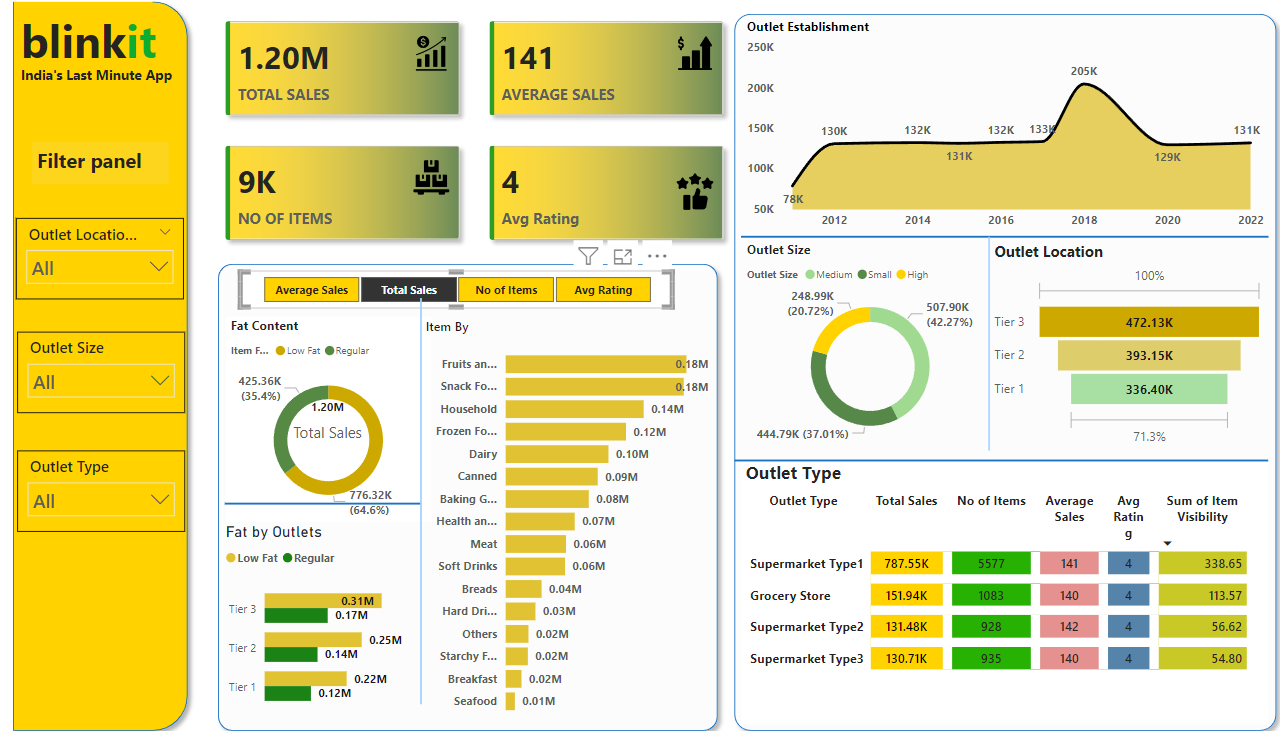

Layout of this report page (visuals, bound fields, positions):
{"tool":"powerbi","page":{"name":"Page 1","canvas":[1400,800],"ordinal":0},"visuals":[{"type":"shape","box":[9.4,0,205.1,800.3],"z":0},{"type":"textbox","box":[21.4,13.4,164.9,77.7],"z":1000},{"type":"textbox","box":[21.4,72.4,191.7,37.5],"z":2000},{"type":"cardVisual","fields":{"Data":["BlinkIT Grocery Data.Total Sales","BlinkIT Grocery Data.Average Sales","BlinkIT Grocery Data.No of Items","BlinkIT Grocery Data.Avg Rating"]},"box":[229.2,13.4,569.7,269.4],"z":3000},{"type":"shape","box":[229.2,281.5,553.6,518.8],"z":4000},{"type":"donutChart","title":"Fat Content","fields":{"Y":["BlinkIT Grocery Data.Total Sales"],"Category":["BlinkIT Grocery Data.Item Fat Content"]},"box":[246.7,347.2,219.8,219.8],"z":5000},{"type":"slicer","fields":{"Values":["Metrics.Metrics"]},"box":[261.4,297.6,465.1,40.2],"z":6000},{"type":"cardVisual","fields":{"Data":["BlinkIT Grocery Data.Total Sales","BlinkIT Grocery Data.Total Sales"]},"box":[297.6,415.6,116.6,85.8],"z":7000},{"type":"clusteredBarChart","title":"Fat by Outlets","fields":{"Y":["BlinkIT Grocery Data.Total Sales"],"Category":["BlinkIT Grocery Data.Outlet Location Type"],"Series":["BlinkIT Grocery Data.Item Fat Content"]},"box":[241.3,567,219.8,215.8],"z":8000},{"type":"shape","box":[245.3,524.1,210.5,46.9],"z":9000},{"type":"shape","box":[435.7,327.1,40.2,435.7],"z":10000},{"type":"barChart","title":"Item By","fields":{"Y":["BlinkIT Grocery Data.Total Sales"],"Category":["BlinkIT Grocery Data.Item Type"]},"box":[455.8,348.5,313.7,435.7],"z":11000},{"type":"shape","box":[782.8,13.4,599.2,786.9],"z":12000},{"type":"lineChart","title":"Outlet Establishment","fields":{"Category":["BlinkIT Grocery Data.Outlet Establishment Year"],"Y":["BlinkIT Grocery Data.Total Sales"]},"box":[800.3,26.8,564.3,234.6],"z":13000},{"type":"shape","box":[798.9,241.3,565.7,40.2],"z":14000},{"type":"donutChart","title":"Outlet Size","fields":{"Y":["BlinkIT Grocery Data.Total Sales"],"Category":["BlinkIT Grocery Data.Outlet Size"]},"box":[800.3,265.4,274.8,225.2],"z":15000},{"type":"shape","box":[1055,261.4,20.1,229.2],"z":16000},{"type":"funnel","title":"Outlet Location","fields":{"Y":["Sum(BlinkIT Grocery Data.Sales)"],"Category":["BlinkIT Grocery Data.Outlet Location Type"]},"box":[1065.7,265.4,298.9,225.2],"z":17000},{"type":"pivotTable","title":"Outlet Type","fields":{"Rows":["BlinkIT Grocery Data.Outlet Type"],"Values":["BlinkIT Grocery Data.Total Sales","BlinkIT Grocery Data.No of Items","BlinkIT Grocery Data.Average Sales","BlinkIT Grocery Data.Avg Rating","Sum(BlinkIT Grocery Data.Item Visibility)"]},"box":[798.9,501.3,565.7,282.8],"z":18000},{"type":"shape","box":[792.2,481.2,572.4,40.2],"z":19000},{"type":"slicer","fields":{"Values":["BlinkIT Grocery Data.Outlet Location Type"]},"box":[21.4,241.3,179.6,87.1],"z":20000},{"type":"slicer","fields":{"Values":["BlinkIT Grocery Data.Outlet Size"]},"box":[22.8,363.3,179.6,87.1],"z":21000},{"type":"slicer","fields":{"Values":["BlinkIT Grocery Data.Outlet Type"]},"box":[22.8,490.6,179.6,87.1],"z":22000},{"type":"textbox","box":[38.9,159.5,146.1,45.6],"z":23000},{"type":"image","box":[160.9,159.5,40.2,44.2],"z":23001}]}

Visuals, with their boxes in screenshot pixels (x1, y1, x2, y2), scaled from the page's 1400x800 canvas onto the 1280x731 screenshot:
shape: detection(9, 0, 196, 730)
textbox: detection(20, 12, 170, 83)
textbox: detection(20, 66, 195, 100)
cardVisual - BlinkIT Grocery Data.Total Sales x BlinkIT Grocery Data.Average Sales: detection(210, 12, 730, 258)
shape: detection(210, 257, 716, 730)
"Fat Content" donutChart: detection(226, 317, 427, 518)
slicer - Metrics.Metrics: detection(239, 272, 664, 309)
cardVisual - BlinkIT Grocery Data.Total Sales x BlinkIT Grocery Data.Total Sales: detection(272, 380, 379, 458)
"Fat by Outlets" clusteredBarChart: detection(221, 518, 422, 715)
shape: detection(224, 479, 417, 522)
shape: detection(398, 299, 435, 697)
"Item By" barChart: detection(417, 318, 704, 717)
shape: detection(716, 12, 1264, 730)
"Outlet Establishment" lineChart: detection(732, 24, 1248, 239)
shape: detection(730, 220, 1248, 257)
"Outlet Size" donutChart: detection(732, 243, 983, 448)
shape: detection(965, 239, 983, 448)
"Outlet Location" funnel: detection(974, 243, 1248, 448)
"Outlet Type" pivotTable: detection(730, 458, 1248, 716)
shape: detection(724, 440, 1248, 476)
slicer - BlinkIT Grocery Data.Outlet Location Type: detection(20, 220, 184, 300)
slicer - BlinkIT Grocery Data.Outlet Size: detection(21, 332, 185, 412)
slicer - BlinkIT Grocery Data.Outlet Type: detection(21, 448, 185, 528)
textbox: detection(36, 146, 169, 187)
image: detection(147, 146, 184, 186)
